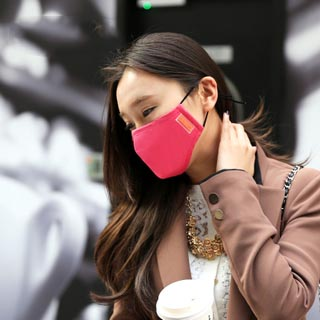face_mask: (114, 70, 199, 176)
